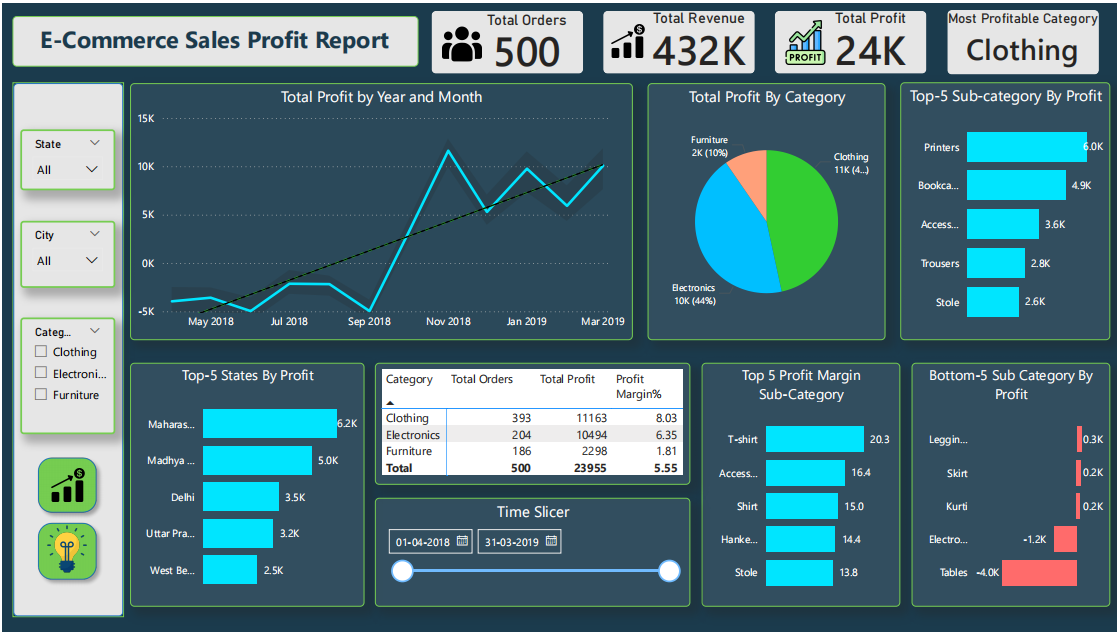

The page's visual inventory and layout, read from the dashboard file:
{"tool":"powerbi","page":{"name":"Profit Analysis","canvas":[1280,720],"ordinal":1},"visuals":[{"type":"textbox","box":[10.8,13.8,466.2,58.5],"z":0},{"type":"shape","title":"Total Orders","box":[492.1,7.9,173.8,71.8],"z":1000},{"type":"shape","box":[689.3,7.9,173.8,71.8],"z":2000},{"type":"shape","box":[886.4,7.9,173.8,71.8],"z":3000},{"type":"shape","box":[1083.5,6.6,174.7,74.5],"z":4000},{"type":"shape","box":[10.6,90.4,128.6,613.6],"z":5000},{"type":"card","title":"Total Orders","fields":{"Values":["CountNonNull(List of Orders.order_id)"]},"box":[515.2,8,173.8,70],"z":6000},{"type":"card","title":"Total Revenue","fields":{"Values":["Sum(Order Details.Amount)"]},"box":[712,6.2,174.7,70],"z":7000},{"type":"card","title":"Total Profit","fields":{"Values":["Sum(Order Details.Profit)"]},"box":[908.9,6.2,174.7,70],"z":8000},{"type":"card","title":"Most Profitable Category","fields":{"Values":["Min(Sales target.Category)"]},"box":[1077.4,7.1,187.5,71.6],"z":9000},{"type":"barChart","title":"Top-5 Sub-category By Profit","fields":{"Category":["Order Details.sub_category"],"Y":["Sum(Order Details.Profit)"]},"box":[1030.3,90.4,240.3,295.3],"z":10000},{"type":"barChart","title":"Top-5 States By Profit","fields":{"Category":["List of Orders.State1"],"Y":["Sum(Order Details.Profit)"]},"box":[146.3,412.3,268.7,279.3],"z":11000},{"type":"lineChart","title":"Total Profit by Year and Month","fields":{"Category":["List of Orders.order_date.Variation.Date Hierarchy.Year","List of Orders.order_date.Variation.Date Hierarchy.Month"],"Y":["Sum(Order Details.Profit)"]},"box":[146.1,90.7,576.5,295.3],"z":12000},{"type":"pieChart","title":"Total Profit By Category","fields":{"Category":["Order Details.Category"],"Y":["Sum(Order Details.Profit)"]},"box":[739.8,90.7,273.1,295.3],"z":13000},{"type":"barChart","title":"Top 5 Profit Margin Sub-Category","fields":{"Y":["Order Details.Profit Margin%"],"Category":["Order Details.sub_category"]},"box":[801.6,412.3,228.8,279.3],"z":14000},{"type":"pivotTable","title":"Sales vs Target","fields":{"Rows":["Order Details.Category"],"Values":["Count(Order Details.order_id)","Sum(Order Details.Profit)","Order Details.Avg Profit Margin"]},"box":[427.4,412.3,361.8,140.1],"z":15000},{"type":"barChart","title":"Bottom-5 Sub Category By Profit","fields":{"Category":["Order Details.sub_category"],"Y":["Sum(Order Details.Profit)"]},"box":[1042.8,412.3,227.9,279.3],"z":16000},{"type":"slicer","title":"Time Slicer","fields":{"Values":["List of Orders.order_date"]},"box":[427.4,566.6,361.8,125],"z":17000},{"type":"slicer","fields":{"Values":["List of Orders.State1"]},"box":[20.4,143.6,108.2,70],"z":18000},{"type":"slicer","fields":{"Values":["Order Details.Category"]},"box":[20.4,360,108.2,133.9],"z":19000},{"type":"slicer","fields":{"Values":["List of Orders.City"]},"box":[20.4,249.2,108.2,77.1],"z":20000},{"type":"image","box":[500.1,12.4,54.1,66.5],"z":21000},{"type":"image","box":[689.9,18.6,53.2,47.9],"z":22000},{"type":"image","box":[889.4,14.2,63.8,59.4],"z":23000},{"type":"shape","box":[31.9,511.6,84.2,81.6],"z":24000},{"type":"shape","box":[31.9,587,84.2,81.6],"z":25000},{"type":"image","box":[39,593.2,70,65.6],"z":26000},{"type":"image","box":[47.9,528.5,53.2,47.9],"z":27000}]}

Visuals, with their boxes in screenshot pixels (x1, y1, x2, y2), scaled from the page's 1280x720 canvas onto the 1117x632 screenshot:
textbox: x1=9, y1=12, x2=416, y2=63
"Total Orders" shape: x1=429, y1=7, x2=581, y2=70
shape: x1=602, y1=7, x2=753, y2=70
shape: x1=774, y1=7, x2=925, y2=70
shape: x1=946, y1=6, x2=1098, y2=71
shape: x1=9, y1=79, x2=121, y2=618
"Total Orders" card: x1=450, y1=7, x2=601, y2=68
"Total Revenue" card: x1=621, y1=5, x2=774, y2=67
"Total Profit" card: x1=793, y1=5, x2=946, y2=67
"Most Profitable Category" card: x1=940, y1=6, x2=1104, y2=69
"Top-5 Sub-category By Profit" barChart: x1=899, y1=79, x2=1109, y2=339
"Top-5 States By Profit" barChart: x1=128, y1=362, x2=362, y2=607
"Total Profit by Year and Month" lineChart: x1=127, y1=80, x2=631, y2=339
"Total Profit By Category" pieChart: x1=646, y1=80, x2=884, y2=339
"Top 5 Profit Margin Sub-Category" barChart: x1=700, y1=362, x2=899, y2=607
"Sales vs Target" pivotTable: x1=373, y1=362, x2=689, y2=485
"Bottom-5 Sub Category By Profit" barChart: x1=910, y1=362, x2=1109, y2=607
"Time Slicer" slicer: x1=373, y1=497, x2=689, y2=607
slicer - List of Orders.State1: x1=18, y1=126, x2=112, y2=187
slicer - Order Details.Category: x1=18, y1=316, x2=112, y2=434
slicer - List of Orders.City: x1=18, y1=219, x2=112, y2=286
image: x1=436, y1=11, x2=484, y2=69
image: x1=602, y1=16, x2=648, y2=58
image: x1=776, y1=12, x2=832, y2=65
shape: x1=28, y1=449, x2=101, y2=521
shape: x1=28, y1=515, x2=101, y2=587
image: x1=34, y1=521, x2=95, y2=578
image: x1=42, y1=464, x2=88, y2=506
